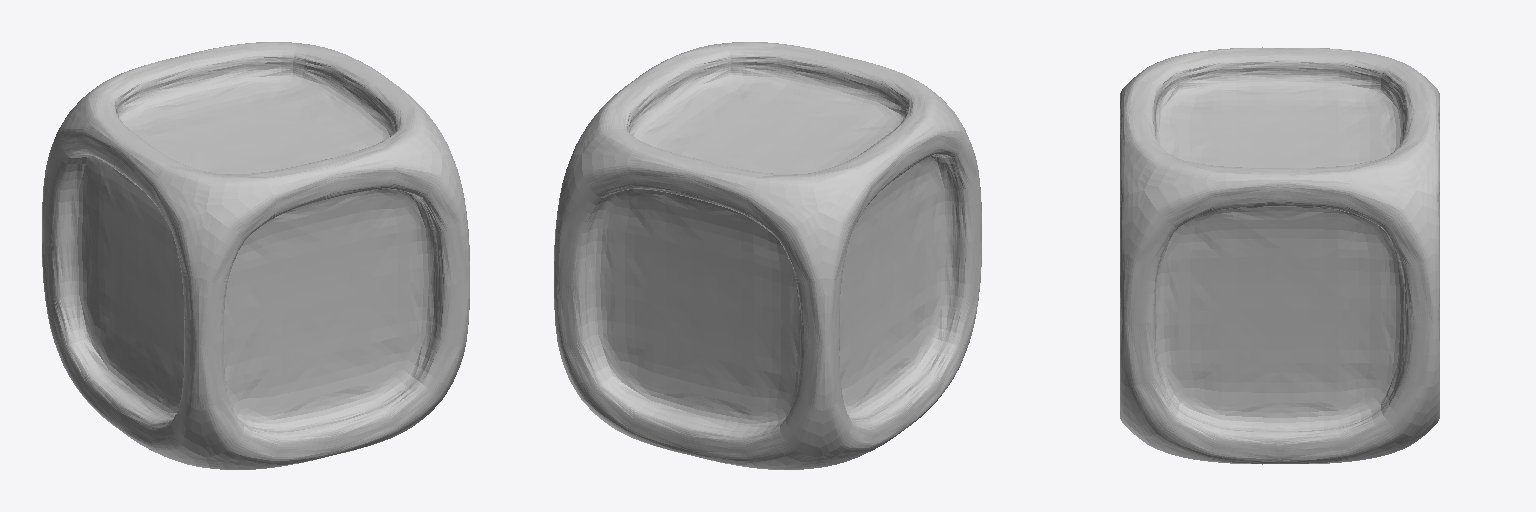
Rendered from SmoothBox.obj.
The picture shows the model from 3 angles: view 1: azimuth 30°, elevation 25°; view 2: azimuth 150°, elevation 25°; view 3: azimuth 270°, elevation 25°; orthographic projection.
Parts seen in each view (by area): view 1: Cube; view 2: Cube; view 3: Cube.
Boxes of the visible parts, x1,y1,x2,y2 form: Cube: [42, 42, 469, 469]; Cube: [554, 42, 981, 469]; Cube: [1120, 47, 1439, 464].
Size of the model in its own units: 2.01 by 2.01 by 2.01.